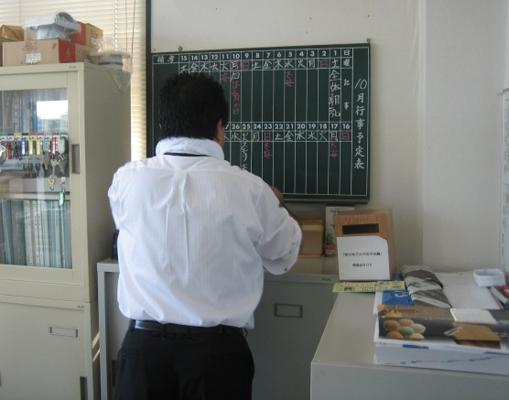person: (109, 73, 302, 400)
